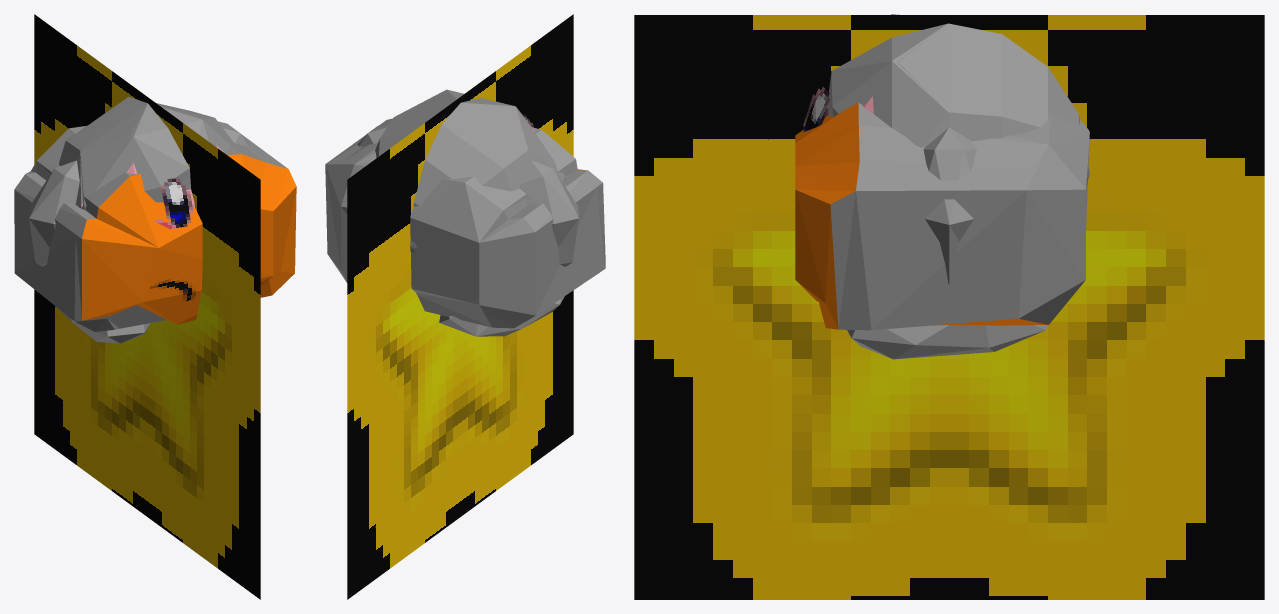
Rendered from kirby.obj.
The picture shows the model from 3 angles, left to right: view 1: azimuth 30°, elevation 25°; view 2: azimuth 150°, elevation 25°; view 3: azimuth 270°, elevation 25°; orthographic projection. The views are drawn at different scales.
Parts seen in each view (by area): view 1: Nemu_775209D4_0_016, stone_5A160E3F_0_002, stone_0_0_053, inhale_0_0_025, Nemu_0_0_021, inhale_118AB4C3_0_026, Nemu_0_0_018, Nemu_0_0_022, Nemu_0_0_024; view 2: Nemu_775209D4_0_016, stone_0_0_053, inhale_0_0_025, Nemu_0_0_021, Nemu_0_0_018, Nemu_0_0_024, Nemu_0_0_022; view 3: Nemu_775209D4_0_016, stone_0_0_053, inhale_0_0_025, stone_5A160E3F_0_002, Nemu_0_0_023, Nemu_0_0_019, Nemu_0_0_018, Nemu_0_0_020.
Part boxes in pixels (x1=…): Nemu_775209D4_0_016: x1=34, y1=14, x2=260, y2=599; stone_5A160E3F_0_002: x1=82, y1=154, x2=296, y2=324; stone_0_0_053: x1=14, y1=121, x2=287, y2=331; inhale_0_0_025: x1=59, y1=96, x2=234, y2=209; Nemu_0_0_021: x1=29, y1=160, x2=79, y2=223; inhale_118AB4C3_0_026: x1=155, y1=178, x2=193, y2=229; Nemu_0_0_018: x1=75, y1=103, x2=212, y2=208; Nemu_0_0_022: x1=29, y1=218, x2=55, y2=266; Nemu_0_0_024: x1=57, y1=307, x2=150, y2=343; Nemu_775209D4_0_016: x1=347, y1=14, x2=573, y2=599; stone_0_0_053: x1=325, y1=118, x2=605, y2=328; inhale_0_0_025: x1=375, y1=89, x2=564, y2=251; Nemu_0_0_021: x1=520, y1=160, x2=578, y2=223; Nemu_0_0_018: x1=400, y1=91, x2=563, y2=252; Nemu_0_0_024: x1=439, y1=296, x2=564, y2=336; Nemu_0_0_022: x1=552, y1=218, x2=578, y2=266; Nemu_775209D4_0_016: x1=634, y1=15, x2=1264, y2=599; stone_0_0_053: x1=830, y1=103, x2=1089, y2=330; inhale_0_0_025: x1=831, y1=14, x2=1089, y2=188; stone_5A160E3F_0_002: x1=795, y1=103, x2=1047, y2=329; Nemu_0_0_023: x1=847, y1=325, x2=1047, y2=359; Nemu_0_0_019: x1=923, y1=127, x2=976, y2=224; Nemu_0_0_018: x1=898, y1=14, x2=1089, y2=181; Nemu_0_0_020: x1=925, y1=219, x2=973, y2=284.
Bounding box in the file's own units: 0.3543 × 0.6 × 0.586.
